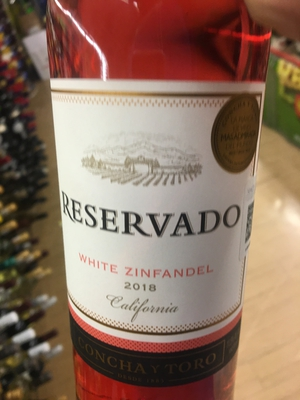reservado white zinfandel: (47, 3, 268, 400)
